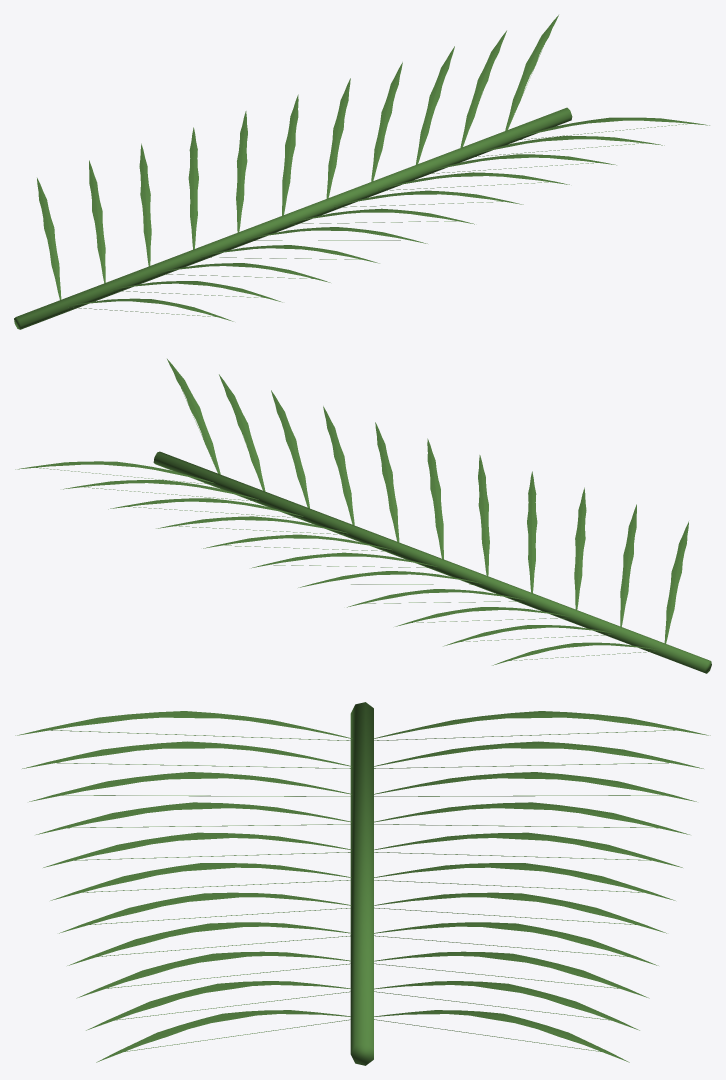
Rendered from Dill.glb.
The picture shows the model from 3 angles, top to bottom: view 1: azimuth 30°, elevation 25°; view 2: azimuth 150°, elevation 25°; view 3: azimuth 270°, elevation 25°; orthographic projection. The views are drawn at different scales.
Visible parts, largest first — view 1: Dill; view 2: Dill; view 3: Dill.
Boxes of the visible parts, left/top/right/bottom form: Dill: left=14, top=15, right=709, bottom=329; Dill: left=15, top=359, right=711, bottom=673; Dill: left=15, top=702, right=710, bottom=1065.
Size of what is drawn, in the model's own units: 0.1123 by 0.019 by 0.0624.
